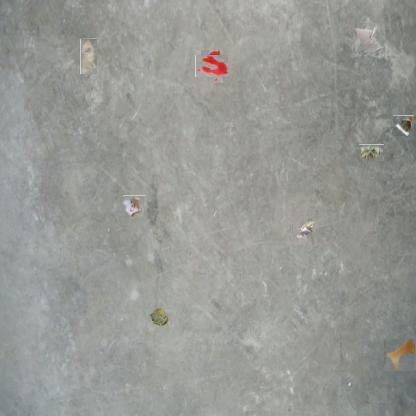dirty: (355, 23, 385, 55), (292, 215, 316, 247), (80, 38, 97, 74), (146, 308, 170, 332), (124, 195, 146, 218), (393, 115, 414, 137), (358, 144, 384, 161)
liquid: (385, 339, 415, 371), (198, 53, 226, 80)
